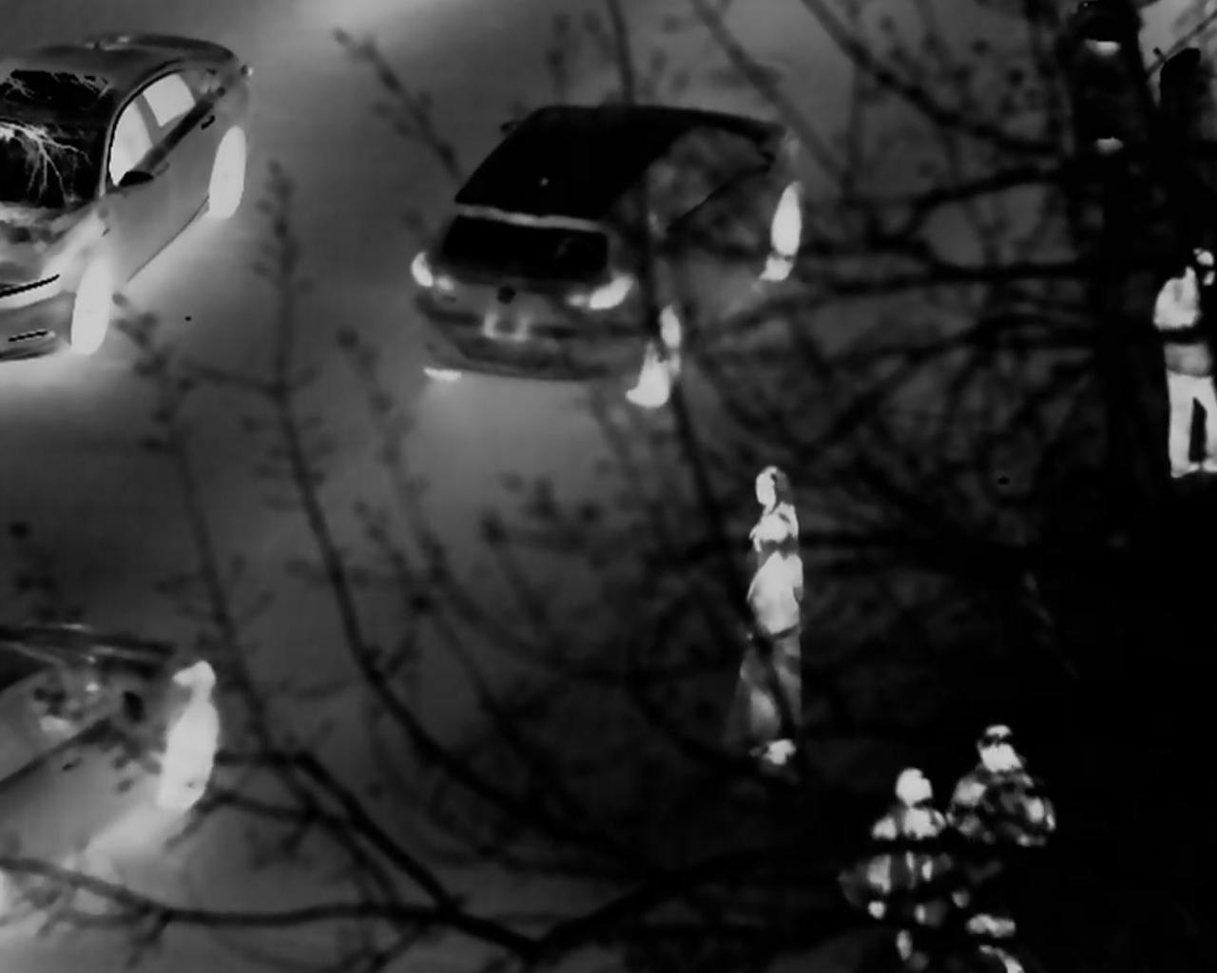person: (730, 466, 808, 735), (863, 758, 965, 929), (1146, 252, 1217, 494), (964, 717, 1059, 876), (742, 518, 802, 769)
